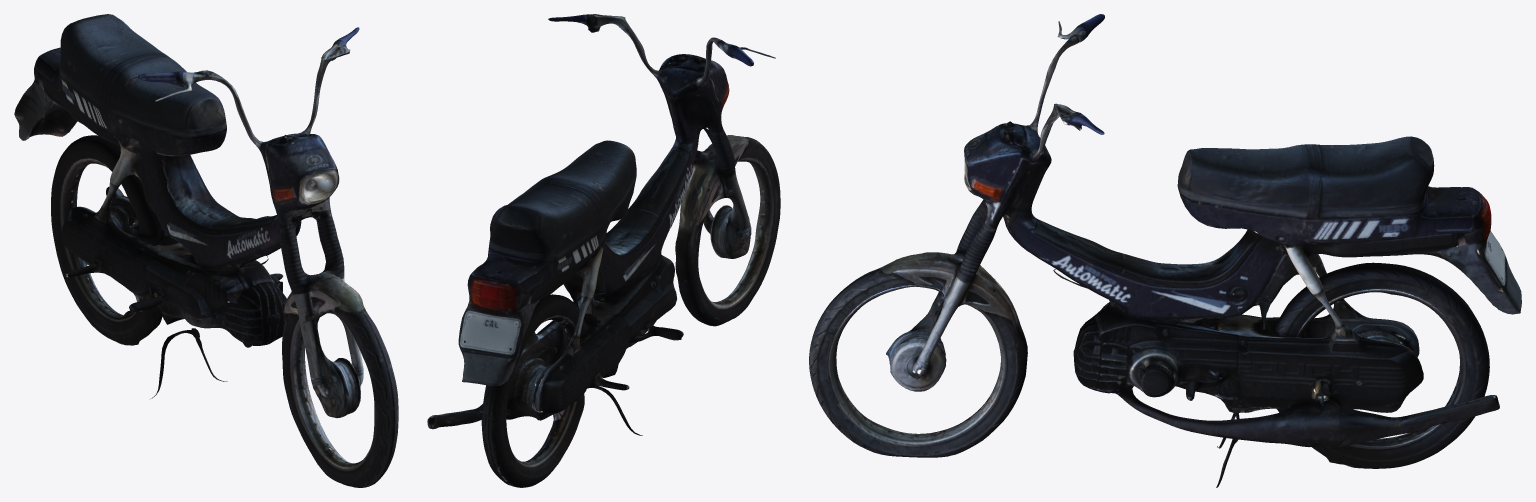
The model's file is puch-moped-ready.glb.
The picture shows the model from 3 angles, left to right: view 1: azimuth 30°, elevation 25°; view 2: azimuth 150°, elevation 25°; view 3: azimuth 270°, elevation 25°; orthographic projection. The views are drawn at different scales.
Visible parts, largest first — view 1: Object_2; view 2: Object_2; view 3: Object_2.
Boxes of the visible parts, x1=… form: Object_2: x1=14, y1=14, x2=398, y2=487; Object_2: x1=427, y1=14, x2=780, y2=487; Object_2: x1=809, y1=14, x2=1521, y2=487.
Bounding box in the file's own units: 0.694 × 1.13 × 1.81.
1 material, 1 textured.
